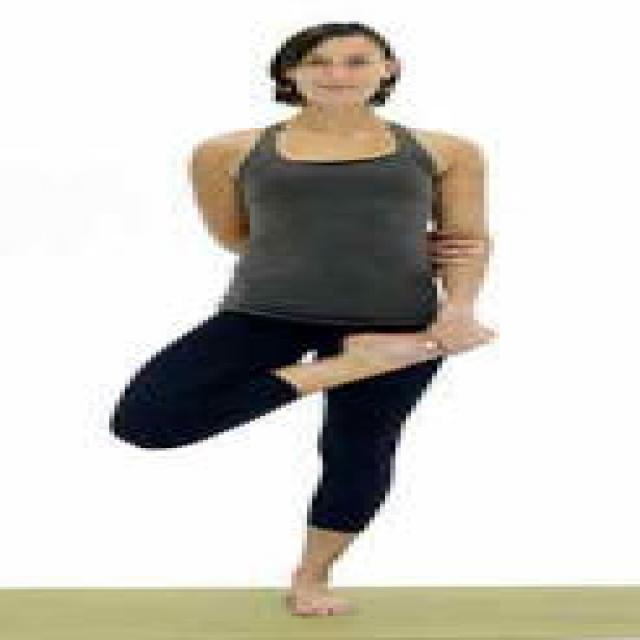yoga-pose tree: (108, 23, 514, 612)
